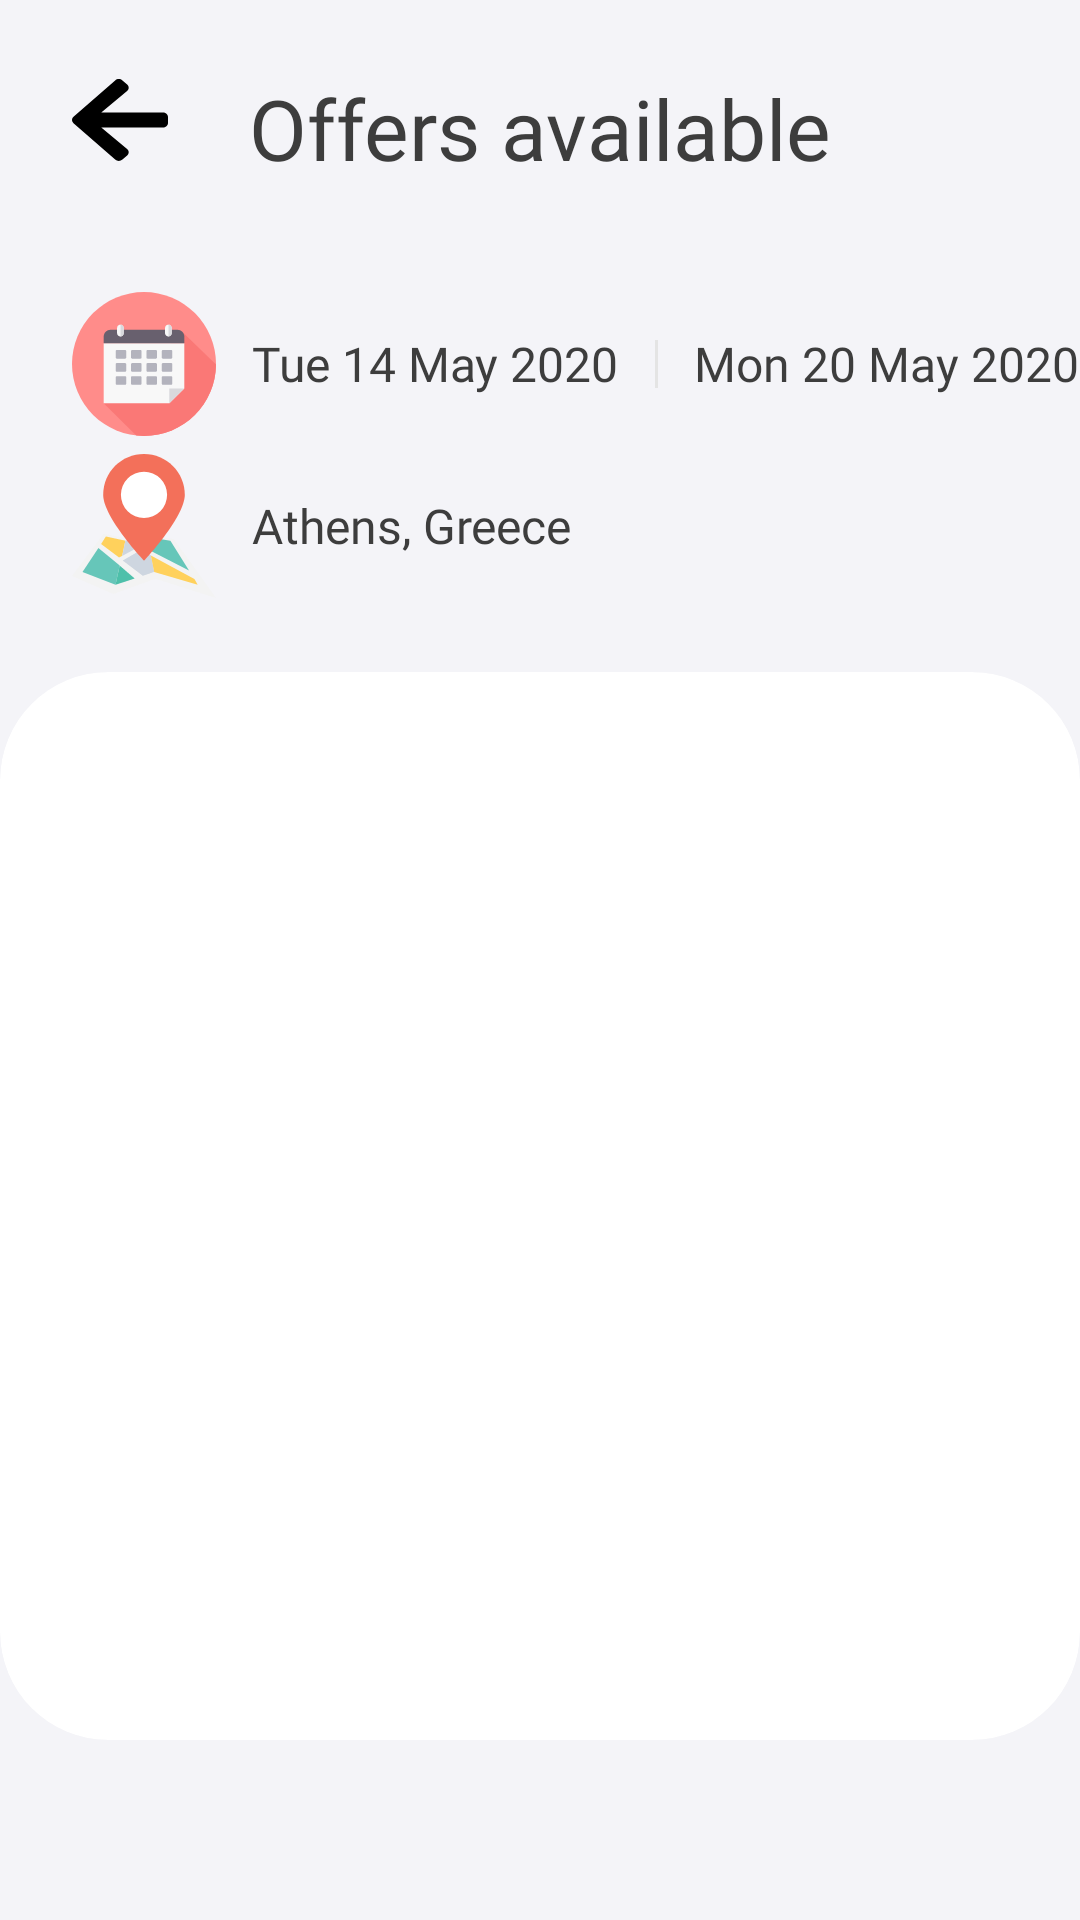

Screen size 1080*1920. Icon name, then its center in pixels as (x=x, y=y):
arrow left: (x=120, y=120)
calendar: (x=144, y=364)
